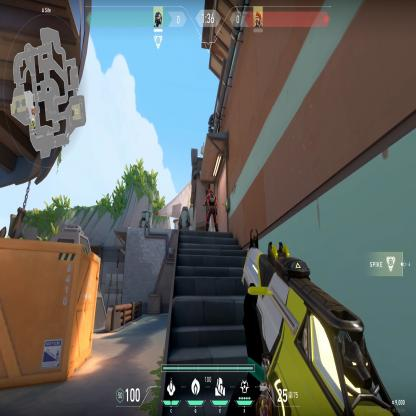enemy: (203, 187, 219, 231)
